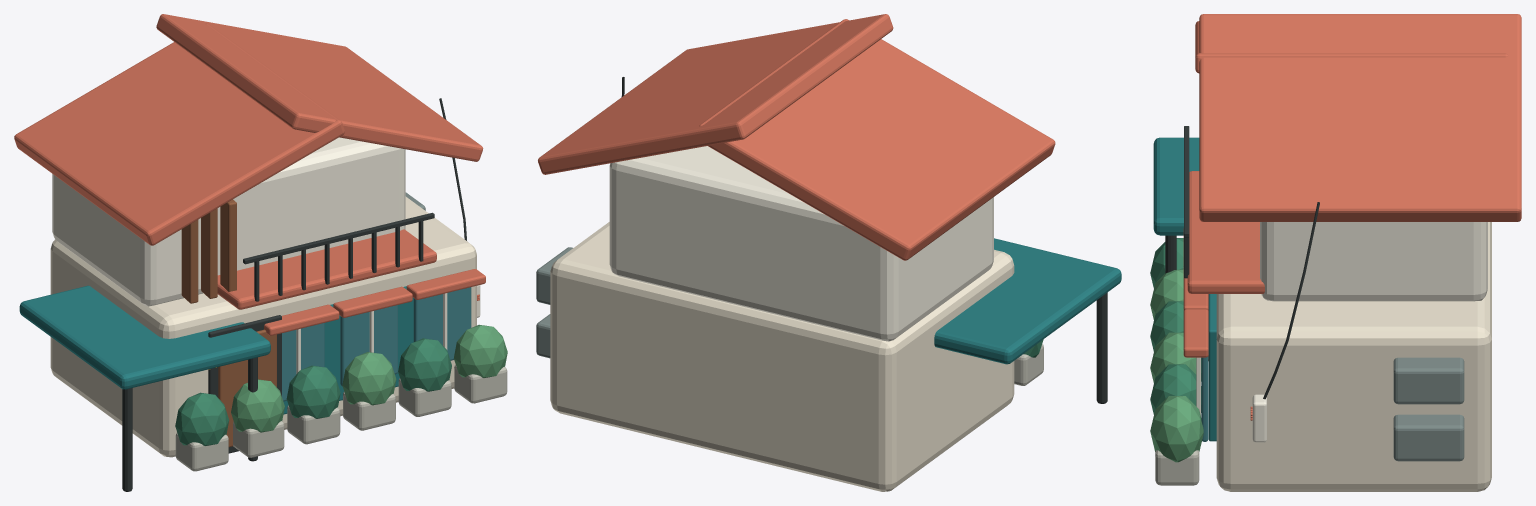
File: landed-v2.glb
3 views of the same model, side by side, from view 1: azimuth 30°, elevation 25°; view 2: azimuth 150°, elevation 25°; view 3: azimuth 270°, elevation 25° (orthographic). The views are drawn at different scales.
Parts seen in each view (by area): view 1: Low roof left, Upper volume, High roof right, Ground plaster, Car porch canopy, Balcony slab, Living window.001, Living window.002, Planter shrub, Planter shrub.003, Planter shrub.002, Planter shrub.005 (+20 smaller); view 2: Ground plaster, Upper volume, Low roof left, High roof right, Car porch canopy, Porch post, Verge planter, Aircon condenser.001; view 3: High roof right, Ground plaster, Upper volume, Balcony slab, Aircon condenser.001, Aircon condenser, Car porch canopy, Planter shrub.005, Low roof left, Planter shrub.004, Recess shadow, Verge planter.005 (+11 smaller).
Boxes of the visible parts, box(x1,y1,x2,y2) form: Low roof left: box(14, 23, 344, 245); Upper volume: box(52, 137, 405, 306); High roof right: box(156, 14, 483, 161); Ground plaster: box(50, 196, 476, 457); Car porch canopy: box(19, 285, 270, 389); Balcony slab: box(217, 229, 436, 309); Living window.001: box(340, 305, 397, 386); Living window.002: box(413, 287, 471, 360); Planter shrub: box(175, 392, 229, 445); Planter shrub.003: box(342, 352, 396, 405); Planter shrub.002: box(286, 365, 340, 418); Planter shrub.005: box(454, 324, 507, 377); Ground plaster: box(550, 222, 1014, 491); Upper volume: box(609, 146, 993, 341); Low roof left: box(699, 19, 1055, 260); High roof right: box(538, 14, 893, 174); Car porch canopy: box(934, 238, 1121, 364); Porch post: box(1096, 292, 1107, 403); Verge planter: box(1014, 344, 1043, 385); Aircon condenser.001: box(536, 247, 572, 304); High roof right: box(1199, 14, 1521, 221); Ground plaster: box(1216, 222, 1491, 491); Upper volume: box(1260, 222, 1487, 301); Balcony slab: box(1187, 171, 1264, 293); Aircon condenser.001: box(1393, 357, 1464, 404); Aircon condenser: box(1393, 414, 1464, 461); Car porch canopy: box(1153, 137, 1199, 235); Planter shrub.005: box(1150, 396, 1203, 462); Low roof left: box(1195, 21, 1508, 73); Planter shrub.004: box(1150, 364, 1201, 414); Recess shadow: box(1208, 294, 1216, 441); Verge planter.005: box(1155, 450, 1199, 485).
Bounding box in the file's own units: 6.95 × 5.27 × 4.72.
